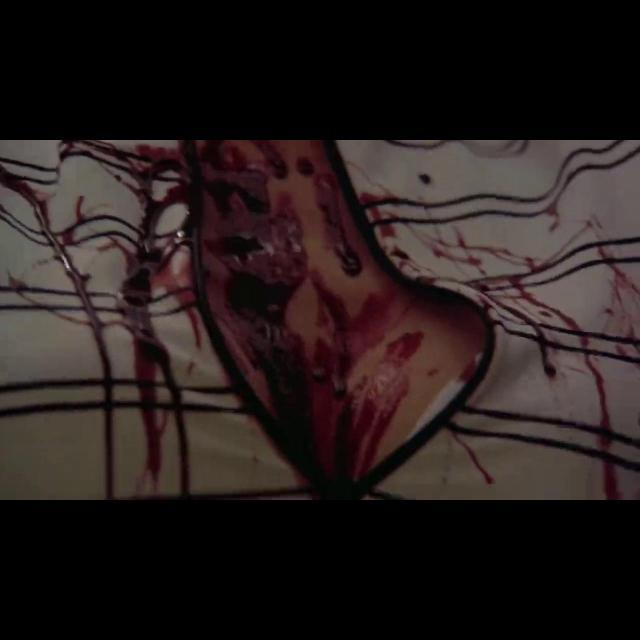blood: (0, 140, 640, 498)
